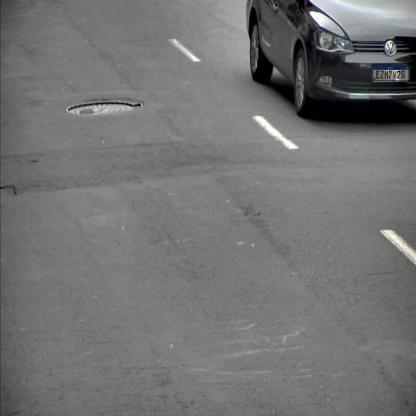PlacaM: (372, 65, 410, 81)
